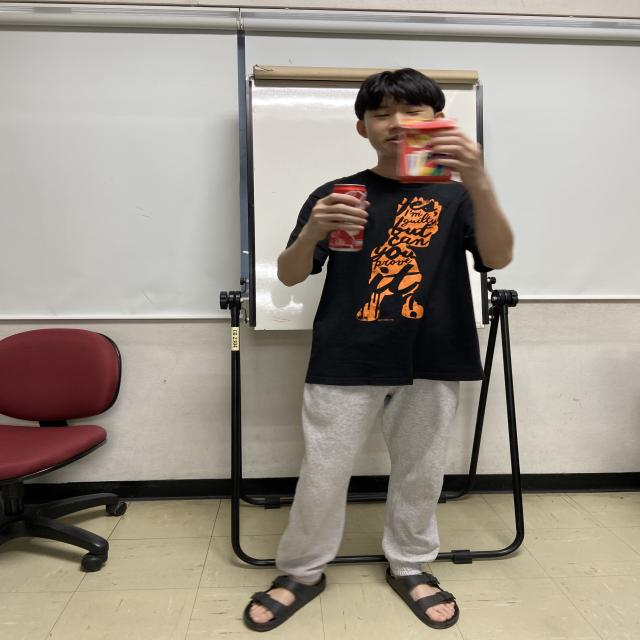can: (328, 184, 368, 252)
